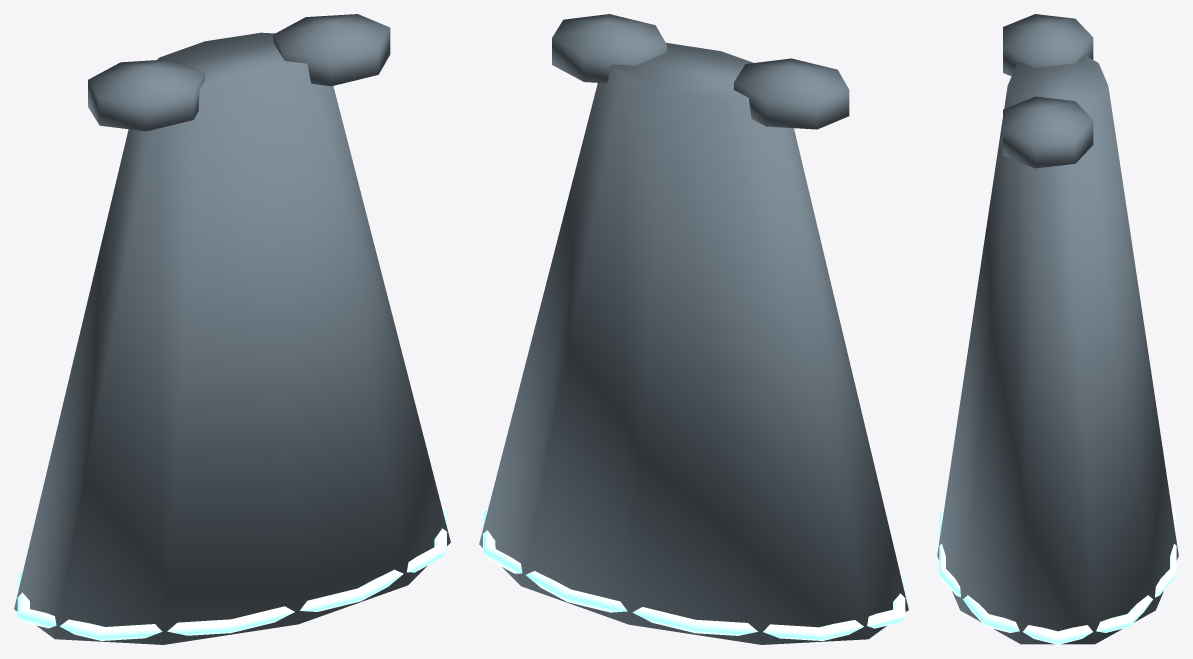
File: npc_cloak_pale.glb
The picture shows the model from 3 angles, left to right: view 1: azimuth 30°, elevation 25°; view 2: azimuth 150°, elevation 25°; view 3: azimuth 270°, elevation 25°; orthographic projection. The views are drawn at different scales.
Parts seen in each view (by area): view 1: part.npc_cloak_pale; view 2: part.npc_cloak_pale; view 3: part.npc_cloak_pale.
Part boxes in pixels (box(x1,y1,x2,y2)): part.npc_cloak_pale: box(14, 14, 450, 644); part.npc_cloak_pale: box(479, 14, 908, 644); part.npc_cloak_pale: box(937, 14, 1178, 644).
Size of the model in its own units: 0.744 by 0.885 by 0.396.
